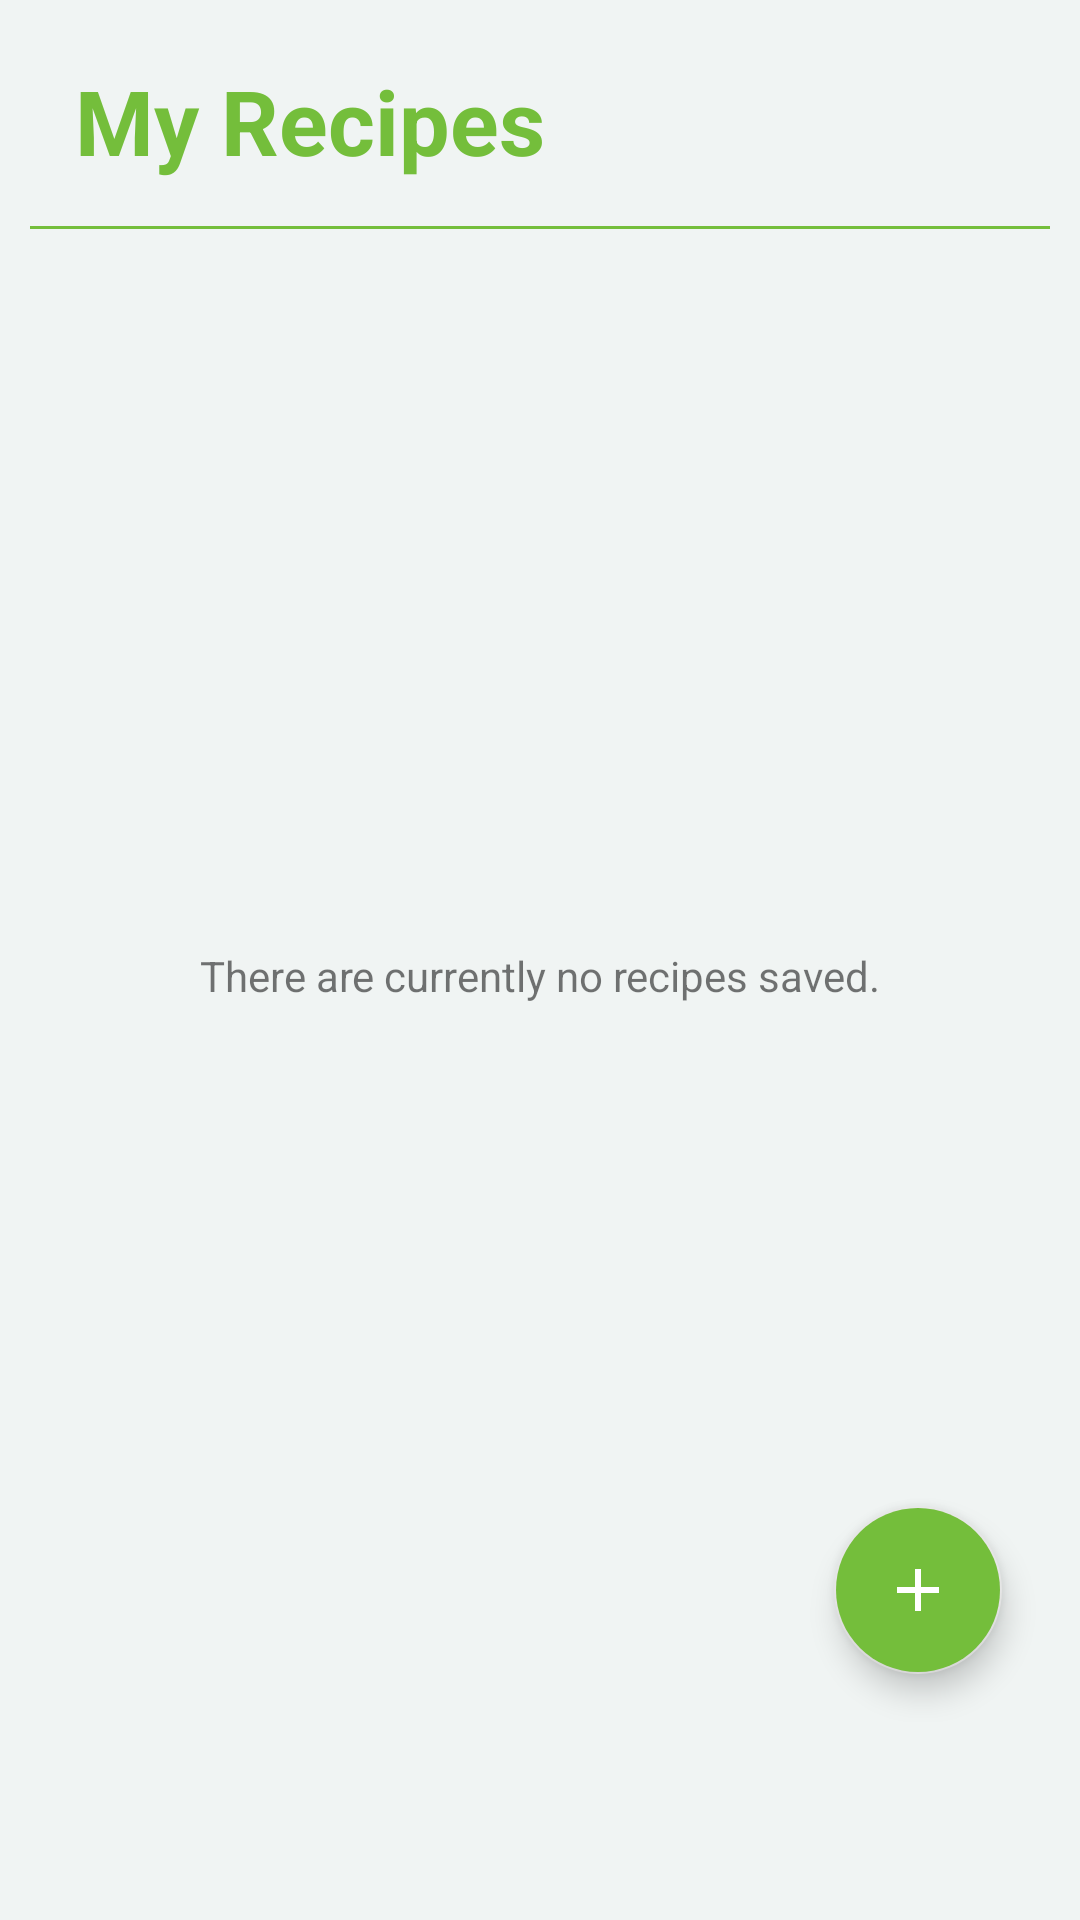

Locate icon controls on the screen. Image size 1080px x 1920px, boxes as [left=x1, top=y1, right=x2, bottom=y2].
add: [left=836, top=1508, right=1002, bottom=1674]
